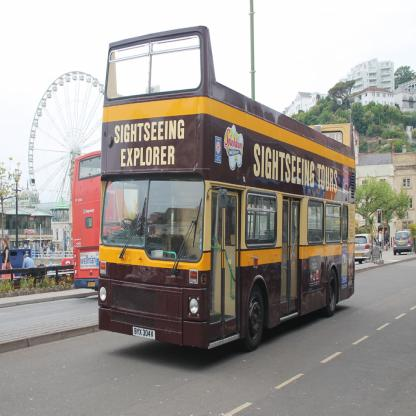Car: (354, 233, 383, 264), (395, 230, 415, 258)
